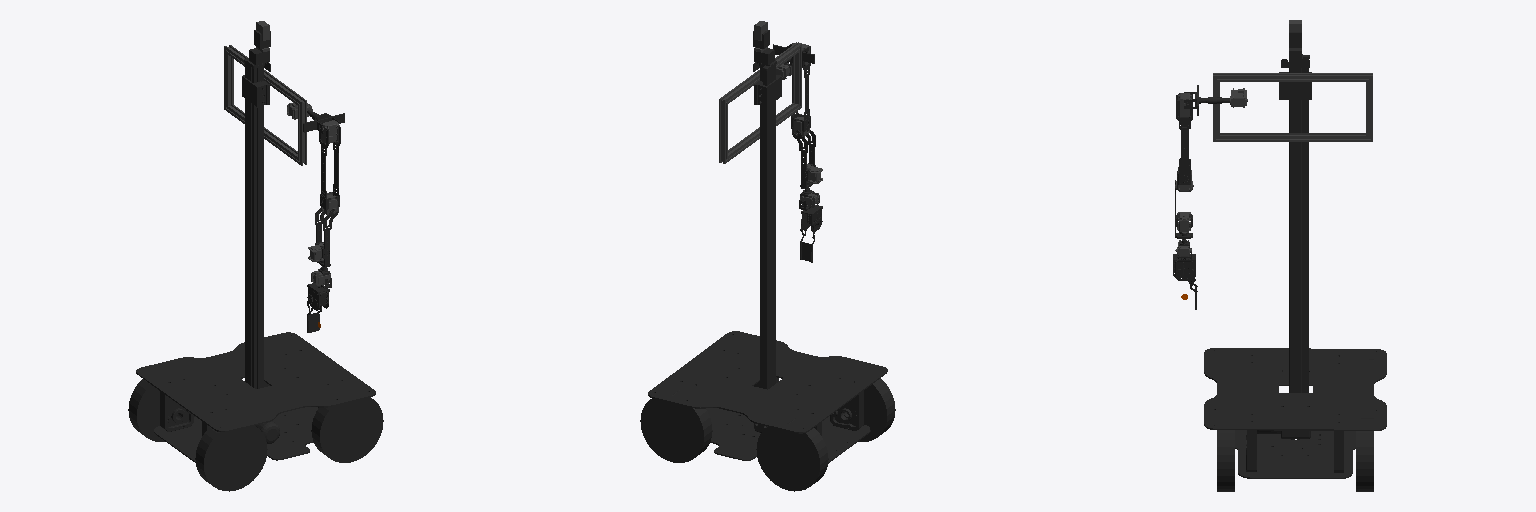
robot.urdf — donaxi:
<?xml version="1.0" ?>
<!-- =================================================================================== -->
<!-- |    This document was autogenerated by xacro from donaxi_urdf.xacro              | -->
<!-- |    EDITING THIS FILE BY HAND IS NOT RECOMMENDED                                 | -->
<!-- =================================================================================== -->
<robot name="donaxi" xmlns:xacro="http://ros.org/wiki/xacro">
  <!-- Define a number of dimensions using properties -->
  <!-- Include all component files -->
  <material name="Black">
    <color rgba="0.2 0.2 0.2 1.0"/>
  </material>
  <material name="TransparentBlack">
    <color rgba="0.2 0.2 0.2 0.8"/>
  </material>
  <material name="Orange">
    <color rgba="1.0  0.55 0.0 1.0"/>
  </material>
  <material name="Grey">
    <color rgba="0.7 0.7 0.7 1.0"/>
  </material>
  <material name="DarkGrey">
    <color rgba="0.3 0.3 0.3 1.0"/>
  </material>
  <material name="Red">
    <color rgba="0.8 0.0 0.0 1.0"/>
  </material>
  <material name="White">
    <color rgba="1.0 1.0 1.0 1.0"/>
  </material>
  <material name="OffWhite">
    <color rgba="0.8 0.8 0.8 1.0"/>
  </material>
  <material name="Blue">
    <color rgba="0.0 0.0 0.8 1.0"/>
  </material>
  <material name="Green">
    <color rgba="0.0 0.8 0.0 1.0"/>
  </material>
  <material name="TransparentGreen">
    <color rgba="0.0 0.8 0.0 0.5"/>
  </material>
  <link name="base_footprint">
    <visual>
      <origin rpy="0 0 0" xyz="0 0 0"/>
      <geometry>
        <box size="0.05 0.05 0.001"/>
      </geometry>
      <material name="TransparentGreen"/>
    </visual>
  </link>
  <joint name="base_joint" type="fixed">
    <origin rpy="0 0 0" xyz="0 0 0.13425"/>
    <parent link="base_footprint"/>
    <child link="base_link"/>
  </joint>
  <joint name="base_l_wheel_joint" type="continuous">
    <axis xyz="0 0 1"/>
    <limit effort="100" velocity="100"/>
    <safety_controller k_velocity="10"/>
    <origin rpy="1.570795 0 0" xyz="0.2 0.2 -0.03207"/>
    <parent link="base_link"/>
    <child link="base_l_wheel_link"/>
  </joint>
  <link name="base_l_wheel_link">
    <visual>
      <origin rpy="0 0 0" xyz="0 0 0"/>
      <geometry>
        <cylinder length="0.05" radius="0.11"/>
      </geometry>
      <material name="Black"/>
    </visual>
  </link>
  <joint name="base_r_wheel_joint" type="continuous">
    <axis xyz="0 0 1"/>
    <limit effort="100" velocity="100"/>
    <safety_controller k_velocity="10"/>
    <origin rpy="-1.570795 0 0" xyz="0.2 -0.2 -0.03207"/>
    <parent link="base_link"/>
    <child link="base_r_wheel_link"/>
  </joint>
  <link name="base_r_wheel_link">
    <visual>
      <origin rpy="0 0 0" xyz="0 0 0"/>
      <geometry>
        <cylinder length="0.05" radius="0.11"/>
      </geometry>
      <material name="Black"/>
    </visual>
  </link>
  <joint name="base_l2_wheel2_joint" type="continuous">
    <axis xyz="0 0 1"/>
    <limit effort="100" velocity="100"/>
    <safety_controller k_velocity="10"/>
    <origin rpy="1.570795 0 0" xyz="-0.2 0.2 -0.03207"/>
    <parent link="base_link"/>
    <child link="base_l2_wheel2_link"/>
  </joint>
  <link name="base_l2_wheel2_link">
    <visual>
      <origin rpy="0 0 0" xyz="0 0 0"/>
      <geometry>
        <cylinder length="0.05" radius="0.11"/>
      </geometry>
      <material name="Black"/>
    </visual>
  </link>
  <joint name="base_r2_wheel2_joint" type="continuous">
    <axis xyz="0 0 1"/>
    <limit effort="100" velocity="100"/>
    <safety_controller k_velocity="10"/>
    <origin rpy="-1.570795 0 0" xyz="-0.2 -0.2 -0.03207"/>
    <parent link="base_link"/>
    <child link="base_r2_wheel2_link"/>
  </joint>
  <link name="base_r2_wheel2_link">
    <visual>
      <origin rpy="0 0 0" xyz="0 0 0"/>
      <geometry>
        <cylinder length="0.05" radius="0.11"/>
      </geometry>
      <material name="Black"/>
    </visual>
  </link>
  <!-- Add the base and wheels -->
  <link name="base_link">
    <visual>
      <origin rpy="0 0 1.570795 " xyz="0 0 0"/>
      <geometry>
        <mesh filename="package://donaxi_description/meshes/Base.stl" scale="0.001 0.001 0.001"/>
      </geometry>
      <material name="Black"/>
    </visual>
    <collision>
      <origin rpy="0 0 0" xyz="0 0 0"/>
      <geometry>
        <box size="0.7 0.45 0.1585"/>
      </geometry>
    </collision>
  </link>
  <!-- Add the riel -->
  <joint name="base_riel_joint" type="fixed">
    <origin rpy="0 0 0" xyz="0.0 0.0 0.53"/>
    <parent link="base_link"/>
    <child link="riel_link"/>
  </joint>
  <link name="riel_link">
    <visual>
      <origin rpy="0 0 -1.570795" xyz="0 0 0"/>
      <geometry>
        <mesh filename="package://donaxi_description/meshes/Riel_FA.stl" scale="1 1 1"/>
      </geometry>
      <material name="Black"/>
    </visual>
    <collision>
      <origin rpy="0 0 0" xyz="0 0 0"/>
      <geometry>
        <box size="0.025 0.025 0.885"/>
      </geometry>
    </collision>
  </link>
  <!-- Add the central frame -->
  <joint name="riel_central_frame_joint" type="prismatic">
    <limit effort="1000.0" lower="-0.5" upper="0.05" velocity="0.1"/>
    <axis xyz="0 0 1"/>
    <origin rpy="0 0 0" xyz="0.04 -0.24 0.35"/>
    <parent link="riel_link"/>
    <child link="central_frame_link"/>
  </joint>
  <link name="central_frame_link">
    <visual>
      <origin rpy="0 0 1.570795" xyz="0 0 0"/>
      <geometry>
        <mesh filename="package://donaxi_description/meshes/Central_Frame.stl" scale="1 1 1"/>
      </geometry>
      <material name="DarkGrey"/>
    </visual>
    <collision>
      <origin rpy="0 0 0" xyz="-0.01 0.24 0.115"/>
      <geometry>
        <box size="0.02 0.48 0.23"/>
      </geometry>
    </collision>
  </link>
  <!-- Add the kinect camera -->
  <joint name="central_frame_kinect_joint" type="fixed">
    <origin rpy="0 0 0" xyz="-0.01 0.23 0.033"/>
    <parent link="central_frame_link"/>
    <child link="kinect_link"/>
  </joint>
  <link name="kinect_link">
    <visual>
      <origin rpy="0 0 -1.570795" xyz="0.0 0 0"/>
      <geometry>
        <mesh filename="package://donaxi_description/meshes/Kinect.stl" scale="1 1 1"/>
      </geometry>
      <material name="DarkGrey"/>
    </visual>
    <collision>
      <origin rpy="0 0 -1.570795" xyz="0 0.0 0.0"/>
      <geometry>
        <box size="0.3 0.1 0.08"/>
      </geometry>
    </collision>
  </link>
  <joint name="kinect_depth_joint" type="fixed">
    <origin rpy="0 1.570795 0" xyz="0.09198 0.0 0.04319"/>
    <parent link="kinect_link"/>
    <child link="kinect_depth_frame"/>
  </joint>
  <link name="kinect_depth_frame">
    <inertial>
      <mass value="0.000001"/>
      <origin xyz="0 0 0"/>
      <inertia ixx="0.0001" ixy="0.0" ixz="0.0" iyy="0.0001" iyz="0.0" izz="0.0001"/>
    </inertial>
  </link>
  <!-- Add the neck and the head -->
  <joint name="head_base_joint" type="fixed">
    <origin rpy="0 0 3.14159" xyz="0.0 0.0 0.60325"/>
    <parent link="riel_link"/>
    <child link="head_base_link"/>
  </joint>
  <link name="head_base_link">
    <origin rpy="0 0 0" xyz="0 0 0"/>
    <inertial>
      <mass value="0.00001"/>
      <inertia ixx="1.0" ixy="0.0" ixz="0.0" iyy="1.0" iyz="0.0" izz="1.0"/>
    </inertial>
    <visual>
      <origin rpy="0 0 0" xyz="0 0 0 "/>
      <geometry>
        <cylinder length="0.00001" radius="0.01"/>
      </geometry>
    </visual>
    <collision>
      <origin rpy="0 0 0" xyz="0 0 0 "/>
      <geometry>
        <cylinder length="0.00001" radius="0.01"/>
      </geometry>
    </collision>
  </link>
  <joint name="head_pan_servo_joint" type="fixed">
    <origin rpy="1.570795 0 -1.570795" xyz="-0.012 0 0.0175"/>
    <parent link="head_base_link"/>
    <child link="head_pan_servo_link"/>
  </joint>
  <link name="head_pan_servo_link">
    <inertial>
      <mass value="0.00001"/>
      <origin xyz="0 0 0"/>
      <inertia ixx="1.0" ixy="0.0" ixz="0.0" iyy="1.0" iyz="0.0" izz="1.0"/>
    </inertial>
    <visual>
      <origin rpy="0 0 0" xyz="0 0 0"/>
      <geometry>
        <box size="0.0385 0.035 0.049"/>
      </geometry>
      <material name="Black"/>
    </visual>
    <collision>
      <origin rpy="0 0 0" xyz="0 0 -0.01241"/>
      <geometry>
        <box size="0.0385 0.035 0.049"/>
      </geometry>
    </collision>
  </link>
  <joint name="head_pan_joint" type="revolute">
    <origin rpy="-1.570795 1.570795 3.14159" xyz="0 0.0225 0.012"/>
    <axis xyz="0 0 -1"/>
    <parent link="head_pan_servo_link"/>
    <limit effort="1.0" lower="-2.53" upper="2.53" velocity="1.571"/>
    <child link="head_pan_bracket_link"/>
  </joint>
  <link name="head_pan_bracket_link">
    <inertial>
      <mass value="0.00001"/>
      <origin xyz="0 0 0"/>
      <inertia ixx="1.0" ixy="0.0" ixz="0.0" iyy="1.0" iyz="0.0" izz="1.0"/>
    </inertial>
    <visual>
      <origin rpy="0 0 0" xyz="0 0 0 "/>
      <geometry>
        <box size="0.025 0.038 0.009"/>
      </geometry>
      <material name="DarkGrey"/>
    </visual>
    <collision>
      <origin rpy="0 0 0" xyz="0 0 0"/>
      <geometry>
        <box size="0.025 0.038 0.009"/>
      </geometry>
    </collision>
  </link>
  <joint name="head_tilt_servo_joint" type="fixed">
    <origin rpy="0 3.14159 0" xyz="0 0 -0.031"/>
    <parent link="head_pan_bracket_link"/>
    <child link="head_tilt_servo_link"/>
  </joint>
  <link name="head_tilt_servo_link">
    <inertial>
      <mass value="0.00001"/>
      <origin xyz="0 0 0"/>
      <inertia ixx="1.0" ixy="0.0" ixz="0.0" iyy="1.0" iyz="0.0" izz="1.0"/>
    </inertial>
    <visual>
      <origin rpy="0 0 0" xyz="0 0 0"/>
      <geometry>
        <box size="0.0385 0.035 0.049"/>
      </geometry>
      <material name="Black"/>
    </visual>
    <collision>
      <origin rpy="0 0 0" xyz="0 0 -0.01241"/>
      <geometry>
        <box size="0.0385 0.035 0.049"/>
      </geometry>
    </collision>
  </link>
  <joint name="head_tilt_joint" type="revolute">
    <origin rpy="0 0 0" xyz="0 0 0.025"/>
    <axis xyz="0 1 0"/>
    <parent link="head_tilt_servo_link"/>
    <limit effort="1.0" lower="-2.53" upper="2.53" velocity="1.571"/>
    <child link="head_tilt_bracket_link"/>
  </joint>
  <link name="head_tilt_bracket_link">
    <inertial>
      <mass value="0.00001"/>
      <origin xyz="0 0 0"/>
      <inertia ixx="1.0" ixy="0.0" ixz="0.0" iyy="1.0" iyz="0.0" izz="1.0"/>
    </inertial>
    <visual>
      <origin rpy="0 0 0" xyz="0 0 0 "/>
      <geometry>
        <box size="0.0245 0.038 0.048"/>
      </geometry>
      <material name="DarkGrey"/>
    </visual>
    <collision>
      <origin rpy="0 0 0" xyz="0 0 0"/>
      <geometry>
        <box size="0.0245 0.038 0.048"/>
      </geometry>
    </collision>
  </link>
  <joint name="head_tilt_bracket_kinect_top_joint" type="fixed">
    <origin rpy="0 0 0" xyz="0.0 0.0 0.0345"/>
    <parent link="head_tilt_bracket_link"/>
    <child link="kinect_top_link"/>
  </joint>
  <link name="kinect_top_link">
    <visual>
      <origin rpy="0 0 -1.570795" xyz="0.0 0 0"/>
      <geometry>
        <mesh filename="package://donaxi_description/meshes/Kinect.stl" scale="1 1 1"/>
      </geometry>
      <material name="DarkGrey"/>
    </visual>
    <collision>
      <origin rpy="0 0 -1.570795" xyz="0 0.0 0.0"/>
      <geometry>
        <box size="0.3 0.1 0.08"/>
      </geometry>
    </collision>
  </link>
  <joint name="kinect_top_depth_joint" type="fixed">
    <origin rpy="0 0 0" xyz="0.09198 0.0 0.04319"/>
    <parent link="kinect_top_link"/>
    <child link="kinect_top_depth_frame"/>
  </joint>
  <link name="kinect_top_depth_frame">
    <inertial>
      <mass value="0.000001"/>
      <origin xyz="0 0 0"/>
      <inertia ixx="0.0001" ixy="0.0" ixz="0.0" iyy="0.0001" iyz="0.0" izz="0.0001"/>
    </inertial>
  </link>
  <!-- Add the right arm -->
  <joint name="right_arm_base_joint" type="fixed">
    <origin rpy="1.570795 3.14159 0" xyz="-0.07184 -0.17402 -0.04902"/>
    <parent link="kinect_depth_frame"/>
    <child link="right_arm_base_link"/>
  </joint>
  <link name="right_arm_base_link">
    <origin rpy="0 0 0" xyz="0 0 0"/>
    <inertial>
      <mass value="0.00001"/>
      <inertia ixx="1.0" ixy="0.0" ixz="0.0" iyy="1.0" iyz="0.0" izz="1.0"/>
    </inertial>
    <visual>
      <origin rpy="0 0 0" xyz="0 0 0 "/>
      <geometry>
        <cylinder length="0.00001" radius="0.01"/>
      </geometry>
    </visual>
    <collision>
      <origin rpy="0 0 0" xyz="0 0 0 "/>
      <geometry>
        <cylinder length="0.00001" radius="0.01"/>
      </geometry>
    </collision>
  </link>
  <joint name="servo_1_joint" type="fixed">
    <origin rpy="0 0 0" xyz="0 0 0"/>
    <parent link="right_arm_base_link"/>
    <child link="servo_1_link"/>
  </joint>
  <link name="servo_1_link">
    <inertial>
      <mass value="0.00001"/>
      <origin xyz="0 0 0"/>
      <inertia ixx="1.0" ixy="0.0" ixz="0.0" iyy="1.0" iyz="0.0" izz="1.0"/>
    </inertial>
    <visual>
      <origin rpy="0 0 3.14159" xyz="0.0196 0.0506 -0.046"/>
      <geometry>
        <mesh filename="package://donaxi_description/meshes/EX106.stl" scale="1 1 1"/>
      </geometry>
      <material name="DarkGrey"/>
    </visual>
    <collision>
      <origin rpy="0 0 0" xyz="0.0196 0.0506 -0.046"/>
      <geometry>
        <box size="0.046 0.0392 0.0651"/>
      </geometry>
    </collision>
  </link>
  <joint name="link_1_joint" type="revolute">
    <axis xyz="0 0 -1"/>
    <axis xyz="0 0 1"/>
    <origin rpy="0 0 0" xyz="0 0 0.05"/>
    <limit effort="1.0" lower="-1.5" upper="1.0" velocity="3.14"/>
    <parent link="servo_1_link"/>
    <child link="link_1_link"/>
  </joint>
  <link name="link_1_link">
    <visual>
      <origin rpy="0 0 0" xyz="0 0 0 "/>
      <geometry>
        <mesh filename="package://donaxi_description/meshes/Shoulder.stl" scale="1 1 1"/>
      </geometry>
      <material name="Black"/>
    </visual>
  </link>
  <joint name="servo_2_joint" type="revolute">
    <origin rpy="0 -1.570795 1.570795" xyz="0 -0.0196 0.08477"/>
    <axis xyz="0 0 -1"/>
    <limit effort="1.0" lower="-0.18" upper="1.0" velocity="3.14"/>
    <parent link="link_1_link"/>
    <child link="servo_2_link"/>
  </joint>
  <link name="servo_2_link">
    <inertial>
      <mass value="0.00001"/>
      <origin xyz="0 0 0"/>
      <inertia ixx="1.0" ixy="0.0" ixz="0.0" iyy="1.0" iyz="0.0" izz="1.0"/>
    </inertial>
    <visual>
      <origin rpy="0 0 3.14159" xyz="0.0196 0.0506 -0.046"/>
      <geometry>
        <mesh filename="package://donaxi_description/meshes/EX106.stl" scale="1 1 1"/>
      </geometry>
      <material name="DarkGrey"/>
    </visual>
    <collision>
      <origin rpy="0 0 0" xyz="0.0196 0.0506 -0.046"/>
      <geometry>
        <box size="0.046 0.0392 0.0651"/>
      </geometry>
    </collision>
  </link>
  <joint name="link_2_joint" type="fixed">
    <origin rpy="-1.570795 1.570795 0" xyz="0 0.1250 -0.0215"/>
    <parent link="servo_2_link"/>
    <child link="link_2_link"/>
  </joint>
  <link name="link_2_link">
    <inertial>
      <mass value="0.00001"/>
      <origin xyz="0 0 0"/>
      <inertia ixx="1.0" ixy="0.0" ixz="0.0" iyy="1.0" iyz="0.0" izz="1.0"/>
    </inertial>
    <visual>
      <origin rpy="0 0 0" xyz="0 0 0"/>
      <geometry>
        <mesh filename="package://donaxi_description/meshes/Upper_Arm.stl" scale="1 1 1"/>
      </geometry>
      <material name="Black"/>
    </visual>
  </link>
  <joint name="servo_3_joint" type="fixed">
    <origin rpy="-1.570795 0 0" xyz="0.0 0.01443 0.1443 "/>
    <parent link="link_2_link"/>
    <child link="servo_3_link"/>
  </joint>
  <link name="servo_3_link">
    <inertial>
      <mass value="0.00001"/>
      <origin xyz="0 0 0"/>
      <inertia ixx="1.0" ixy="0.0" ixz="0.0" iyy="1.0" iyz="0.0" izz="1.0"/>
    </inertial>
    <visual>
      <origin rpy="0 0 3.14159" xyz="0.0201 0.0466 -0.041"/>
      <geometry>
        <mesh filename="package://donaxi_description/meshes/RX64.stl" scale="1 1 1"/>
      </geometry>
      <material name="DarkGrey"/>
    </visual>
    <collision>
      <origin rpy="0 0 0" xyz="0.0201 0.0466 -0.041"/>
      <geometry>
        <box size="0.041 0.0402 0.0611"/>
      </geometry>
    </collision>
  </link>
  <joint name="link_3_joint" type="revolute">
    <axis xyz="0 0 1"/>
    <axis xyz="0 0 1"/>
    <origin rpy="0 3.14159 3.14159" xyz="0 0 -0.0154"/>
    <limit effort="1.0" lower="-0.22" upper="1.5" velocity="3.14"/>
    <parent link="servo_3_link"/>
    <child link="link_3_link"/>
  </joint>
  <link name="link_3_link">
    <visual>
      <origin rpy="0 0 0" xyz="0 0 0 "/>
      <geometry>
        <mesh filename="package://donaxi_description/meshes/Elbow.stl" scale="1 1 1"/>
      </geometry>
      <material name="Black"/>
    </visual>
  </link>
  <joint name="servo_4_joint" type="fixed">
    <origin rpy="-1.570795 -1.570795 0" xyz="0.0221 0.1485 0.0 "/>
    <parent link="link_3_link"/>
    <child link="servo_4_link"/>
  </joint>
  <link name="servo_4_link">
    <inertial>
      <mass value="0.00001"/>
      <origin xyz="0 0 0"/>
      <inertia ixx="1.0" ixy="0.0" ixz="0.0" iyy="1.0" iyz="0.0" izz="1.0"/>
    </inertial>
    <visual>
      <origin rpy="0 0 3.14159" xyz="0.0201 0.0466 -0.041"/>
      <geometry>
        <mesh filename="package://donaxi_description/meshes/RX64.stl" scale="1 1 1"/>
      </geometry>
      <material name="DarkGrey"/>
    </visual>
    <collision>
      <origin rpy="0 0 0" xyz="0.0201 0.0466 -0.041"/>
      <geometry>
        <box size="0.041 0.0402 0.0611"/>
      </geometry>
    </collision>
  </link>
  <joint name="link_4_joint" type="revolute">
    <axis xyz="0 0 -1"/>
    <axis xyz="0 0 1"/>
    <origin rpy="0 0 -1.570795" xyz="0 0 0.009"/>
    <limit effort="1.0" lower="-1.45" upper="1.45" velocity="3.14"/>
    <parent link="servo_4_link"/>
    <child link="link_4_link"/>
  </joint>
  <link name="link_4_link">
    <visual>
      <origin rpy="0 0 0" xyz="0 0 0 "/>
      <geometry>
        <mesh filename="package://donaxi_description/meshes/Fourth_Link.stl" scale="1 1 1"/>
      </geometry>
      <material name="Black"/>
    </visual>
  </link>
  <joint name="servo_5_joint" type="fixed">
    <origin rpy="0 1.570795 1.570795" xyz="0.0013 0.0133 0.0589 "/>
    <parent link="link_4_link"/>
    <child link="servo_5_link"/>
  </joint>
  <link name="servo_5_link">
    <inertial>
      <mass value="0.00001"/>
      <origin xyz="0 0 0"/>
      <inertia ixx="1.0" ixy="0.0" ixz="0.0" iyy="1.0" iyz="0.0" izz="1.0"/>
    </inertial>
    <visual>
      <origin rpy="0 0 3.14159" xyz="0.0178 0.0361 -0.0355"/>
      <geometry>
        <mesh filename="package://donaxi_description/meshes/RX28.stl" scale="1 1 1"/>
      </geometry>
      <material name="DarkGrey"/>
    </visual>
    <collision>
      <origin rpy="0 0 0" xyz="0.0178 0.0361 -0.0355"/>
      <geometry>
        <box size="0.0355 0.0356 0.0506"/>
      </geometry>
    </collision>
  </link>
  <joint name="link_5_joint" type="revolute">
    <axis xyz="0 0 1"/>
    <axis xyz="0 0 1"/>
    <origin rpy="0 0 3.14159" xyz="0 -0.00235 -0.0352"/>
    <limit effort="1.0" lower="-0.23" upper="1.59" velocity="3.14"/>
    <parent link="servo_5_link"/>
    <child link="link_5_link"/>
  </joint>
  <link name="link_5_link">
    <visual>
      <origin rpy="0 0 0" xyz="-0.0025 -0.013 0 "/>
      <geometry>
        <mesh filename="package://donaxi_description/meshes/Wrist.stl" scale="1 1 1"/>
      </geometry>
      <material name="Black"/>
    </visual>
  </link>
  <joint name="link_6_joint" type="fixed">
    <origin rpy="-1.570795 1.570795 0" xyz="0.07100 0 0.03574"/>
    <parent link="link_5_link"/>
    <child link="link_6_link"/>
  </joint>
  <link name="link_6_link">
    <inertial>
      <mass value="0.00001"/>
      <origin xyz="0 0 0"/>
      <inertia ixx="1.0" ixy="0.0" ixz="0.0" iyy="1.0" iyz="0.0" izz="1.0"/>
    </inertial>
    <visual>
      <origin rpy="0 0 0" xyz="0 0 0"/>
      <geometry>
        <mesh filename="package://donaxi_description/meshes/Gripper.stl" scale="1 1 1"/>
      </geometry>
      <material name="Black"/>
    </visual>
  </link>
  <joint name="gripper_joint" type="fixed">
    <origin rpy="0 0 -1.570795" xyz="0.015 -0.085 -0.01825"/>
    <parent link="link_6_link"/>
    <child link="gripper_link"/>
  </joint>
  <link name="gripper_link">
    <origin rpy="0 0 0" xyz="0.0 0.0 0.0"/>
    <visual>
      <origin rpy="0 0 0" xyz="0.0 0.0 0.0"/>
      <geometry>
        <cylinder length="0.00001" radius="0.01"/>
      </geometry>
    </visual>
    <collision>
      <origin rpy="0 0 0" xyz="0.0 0.0 0.0"/>
      <geometry>
        <cylinder length="0.00001" radius="0.01"/>
      </geometry>
    </collision>
  </link>
</robot>

--- Render facts (derived) ---
Views: 3 orthographic renders of the robot side by side, from view 1: azimuth 30°, elevation 25°; view 2: azimuth 150°, elevation 25°; view 3: azimuth 270°, elevation 25°.
Robot: donaxi — 30 links, 29 joints (7 revolute, 4 continuous, 1 prismatic, 17 fixed); root link base_footprint; default pose: every joint at zero.
Links seen in each view (by area): view 1: base_link, riel_link, base_r2_wheel2_link, base_r_wheel_link, central_frame_link, base_l2_wheel2_link, link_2_link, link_6_link, link_3_link; view 2: base_link, riel_link, base_l2_wheel2_link, base_l_wheel_link, central_frame_link, base_r2_wheel2_link, link_6_link, link_3_link; view 3: base_link, riel_link, central_frame_link, base_r_wheel_link, base_l_wheel_link, link_2_link, link_6_link.
Boxes of the visible links, x1=… form: base_link: x1=136, y1=332, x2=375, y2=462; riel_link: x1=242, y1=58, x2=279, y2=443; base_r2_wheel2_link: x1=195, y1=426, x2=267, y2=491; base_r_wheel_link: x1=311, y1=397, x2=383, y2=462; central_frame_link: x1=224, y1=45, x2=306, y2=165; base_l2_wheel2_link: x1=128, y1=369, x2=195, y2=441; link_2_link: x1=319, y1=126, x2=340, y2=209; link_6_link: x1=307, y1=283, x2=329, y2=332; link_3_link: x1=315, y1=208, x2=337, y2=267; base_link: x1=648, y1=331, x2=887, y2=463; riel_link: x1=753, y1=60, x2=781, y2=432; base_l2_wheel2_link: x1=756, y1=418, x2=828, y2=491; base_l_wheel_link: x1=640, y1=390, x2=712, y2=462; central_frame_link: x1=719, y1=43, x2=801, y2=163; base_r2_wheel2_link: x1=847, y1=378, x2=895, y2=441; link_6_link: x1=800, y1=205, x2=822, y2=262; link_3_link: x1=792, y1=130, x2=815, y2=189; base_link: x1=1204, y1=348, x2=1386, y2=478; riel_link: x1=1257, y1=54, x2=1311, y2=439; central_frame_link: x1=1213, y1=73, x2=1372, y2=141; base_r_wheel_link: x1=1217, y1=430, x2=1234, y2=491; base_l_wheel_link: x1=1356, y1=418, x2=1373, y2=491; link_2_link: x1=1176, y1=95, x2=1192, y2=184; link_6_link: x1=1173, y1=254, x2=1197, y2=309.
Bounding box of the posed robot: 0.62 × 0.6135 × 1.4 m (x, y, z).
14 mesh visuals loaded from 13 distinct referenced files (12 binary STL); not drawn: 2 (reference not matched to a file when rendering).
